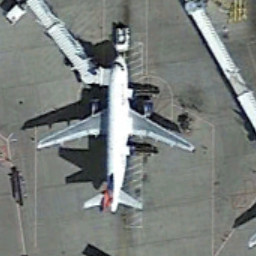Airplane: (16, 48, 199, 223)
